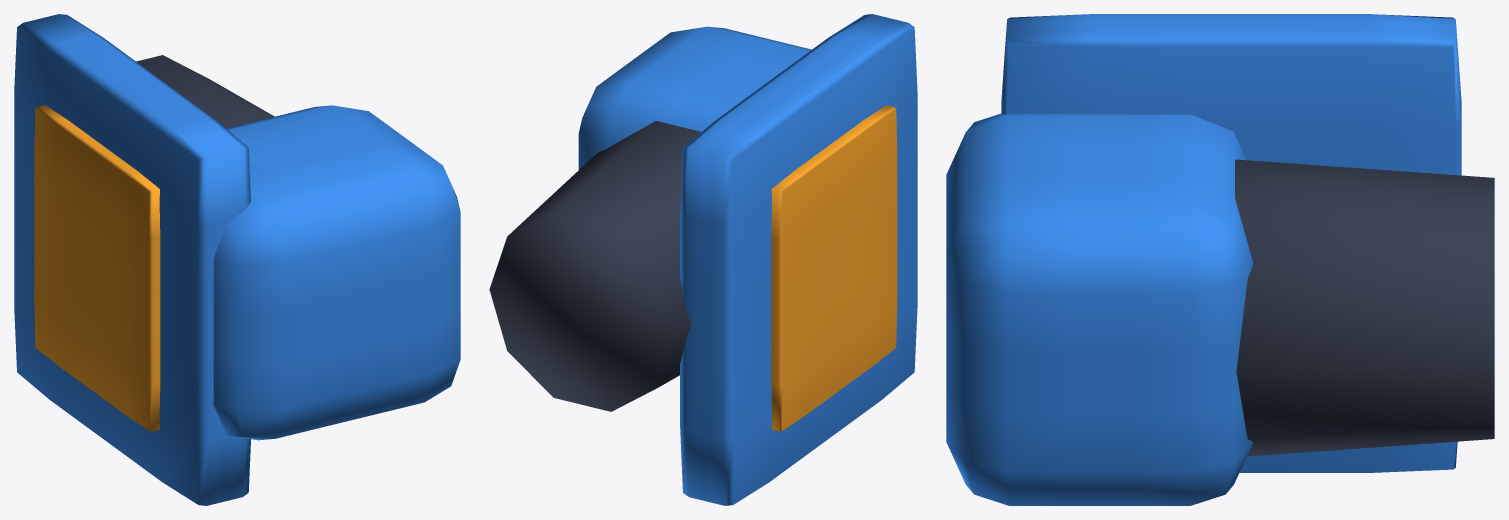
The model's file is glove_shield.obj.
3 renders of one model, left to right at view 1: azimuth 30°, elevation 25°; view 2: azimuth 150°, elevation 25°; view 3: azimuth 270°, elevation 25°, orthographic. The views are drawn at different scales.
Size of the model in its own units: 0.355 by 0.44 by 0.5.
